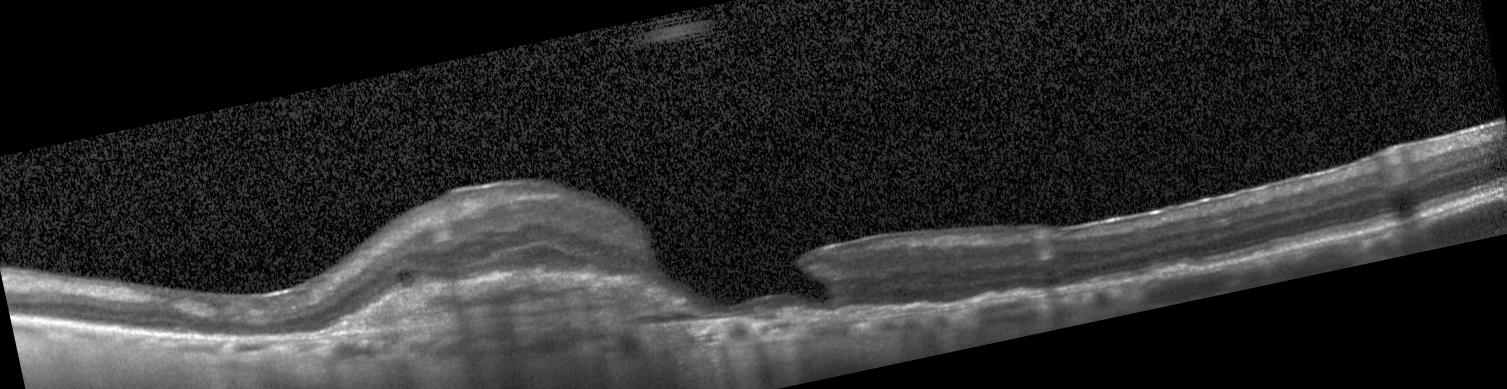intraretinal_cyst: (396, 271, 413, 287)
lamellar_macular_rupture: (648, 227, 826, 304)
subretinal_hyperreflective_material: (292, 262, 708, 338), (776, 291, 997, 318)
